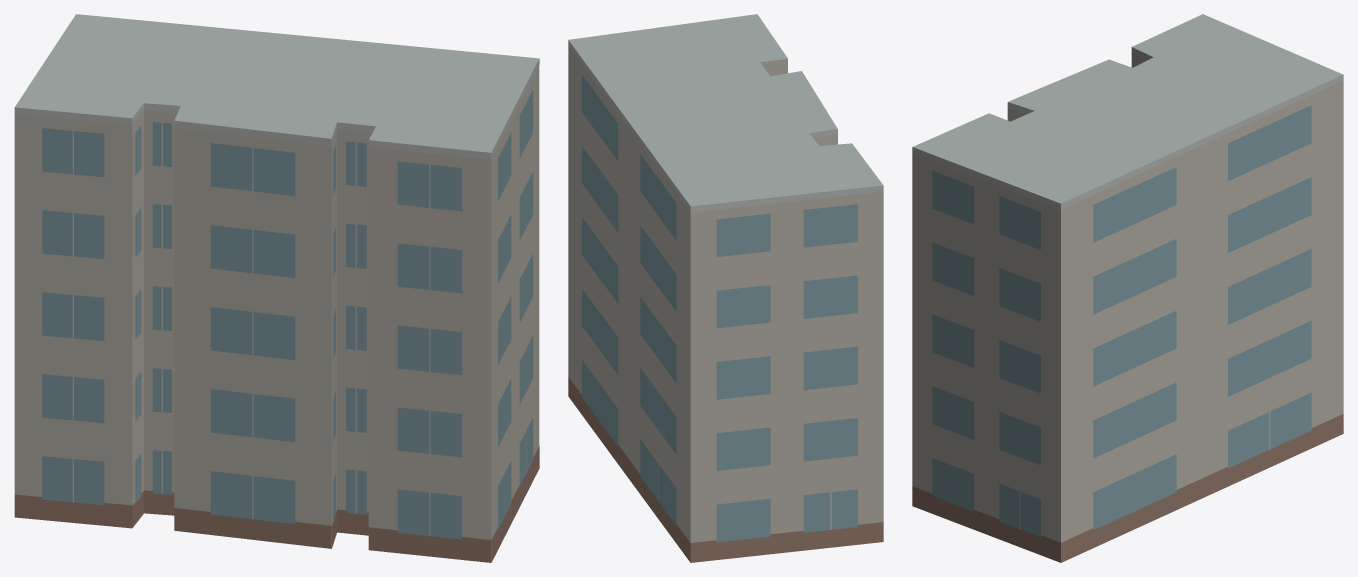
File: survey-upis-32963716.glb
The picture shows the model from 3 angles, left to right: view 1: azimuth 30°, elevation 25°; view 2: azimuth 150°, elevation 25°; view 3: azimuth 270°, elevation 25°; orthographic projection. The views are drawn at different scales.
Visible parts, largest first — view 1: survey-upis-32963716.tmp; view 2: survey-upis-32963716.tmp; view 3: survey-upis-32963716.tmp.
Part boxes in pixels (x1,y1,x2,y2): survey-upis-32963716.tmp: [14, 14, 539, 562]; survey-upis-32963716.tmp: [568, 14, 883, 562]; survey-upis-32963716.tmp: [912, 14, 1343, 562].
Size of the model in its own units: 16.32 by 14.4 by 15.67.
